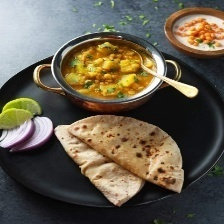roti: (54, 116, 184, 205)
